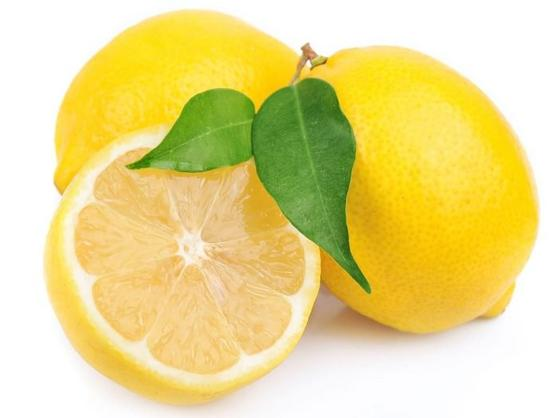lemon: (290, 40, 545, 332)
